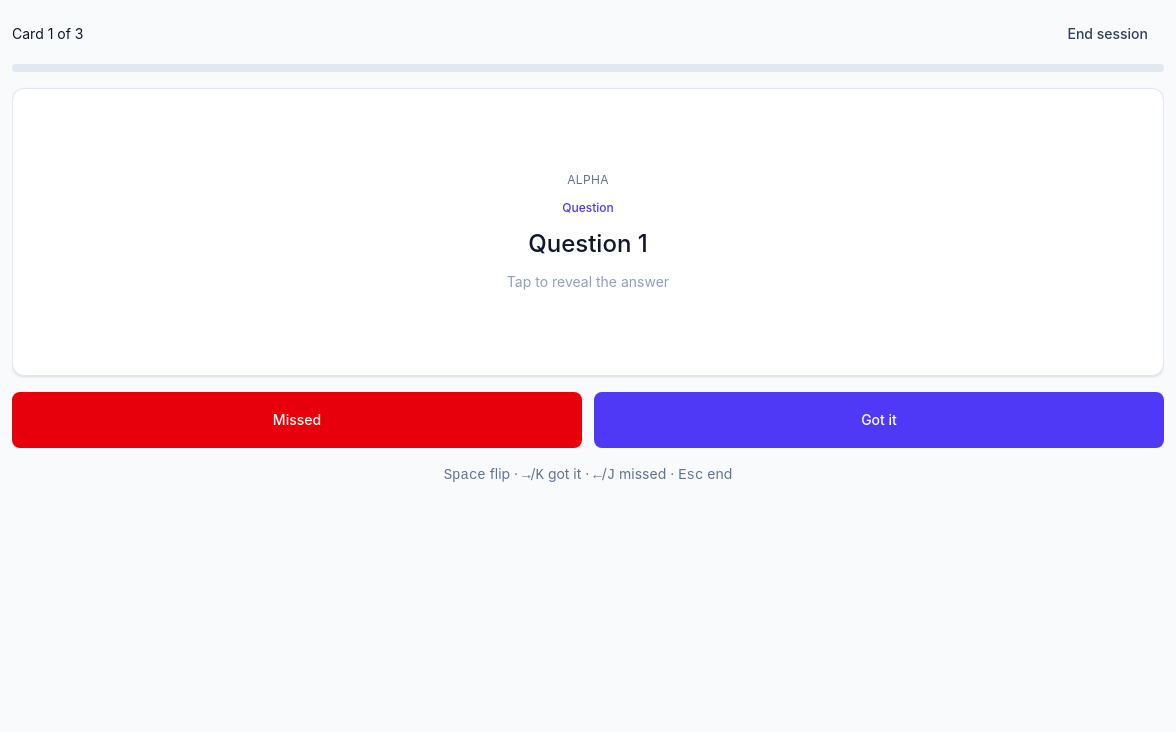
Test case: study session › finishing shows score, per-group results and missed cards
The image size is (1176, 732).
Click the button "Got it".
click(879, 420)  # box [594,392,1164,448]
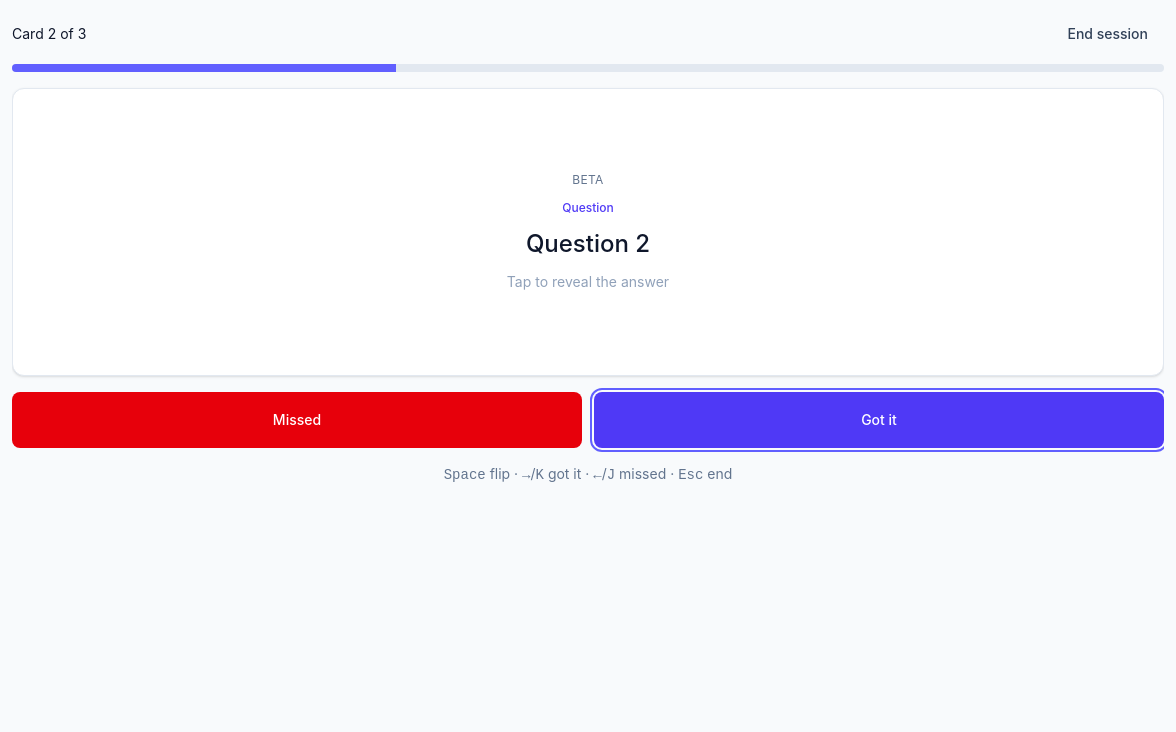
Click the button "Missed".
click(297, 420)  # box [12,392,582,448]
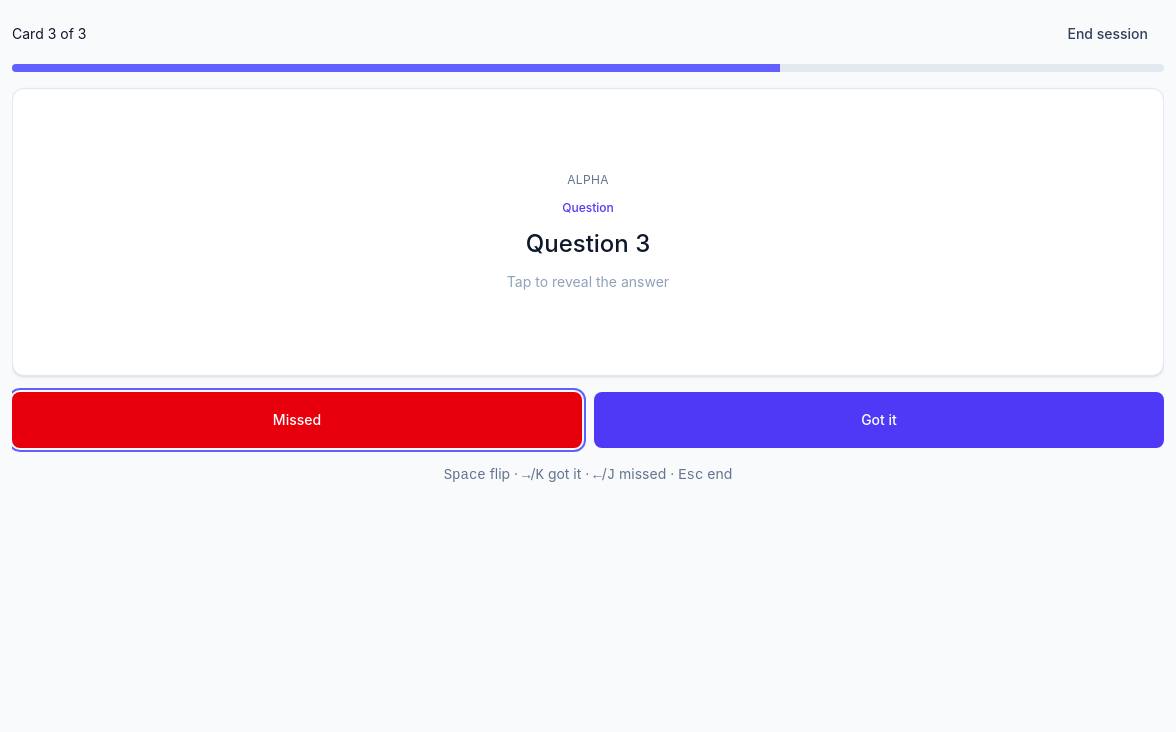
Click the button "Got it".
click(879, 420)  # box [594,392,1164,448]
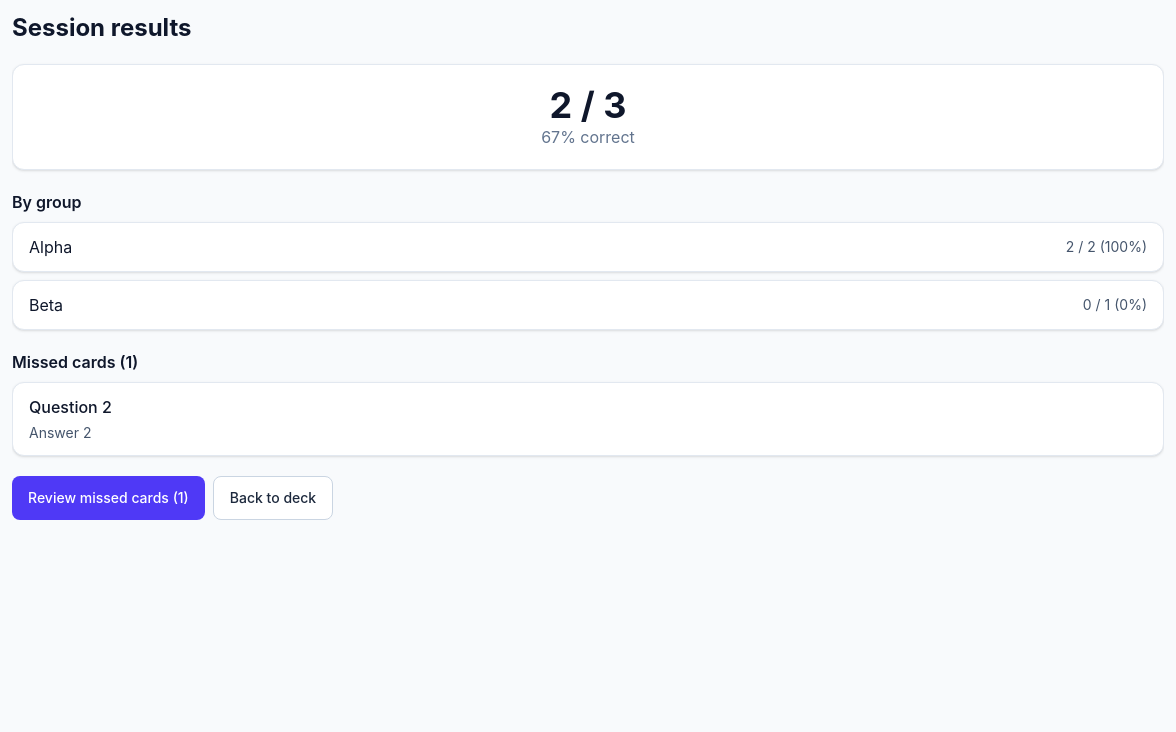
Now the text "Alpha" is shown, box [29,235,72,259]
Now the text with test id "score" reads "2 / 3", box [550,83,626,127]
Now the text "2 / 2 (100%)" is shown, box [1066,237,1147,257]
